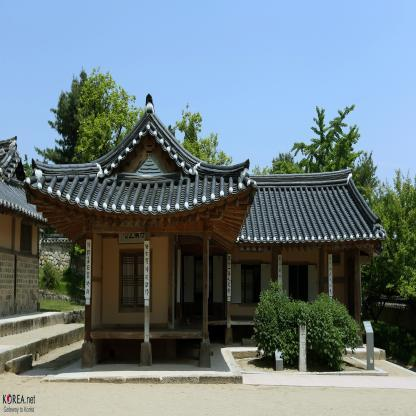Blind: (183, 254, 194, 304), (213, 255, 223, 303), (231, 263, 241, 304), (261, 264, 271, 305), (280, 265, 289, 306), (309, 265, 318, 306)
Building Outline: (23, 93, 386, 369)
Deco: (85, 239, 92, 305), (144, 241, 150, 306), (278, 255, 282, 304), (328, 254, 332, 302), (227, 254, 231, 301)
Dont: (250, 276, 362, 372)
Door: (194, 258, 213, 317)
Floor Slab: (84, 320, 359, 339)
Pillar: (81, 233, 95, 369), (199, 232, 211, 368), (140, 232, 152, 366), (355, 250, 363, 345), (276, 250, 284, 345), (327, 250, 334, 345), (225, 253, 232, 345)
Raised Floor: (84, 221, 359, 332)
Roof: (23, 93, 386, 244)
Window: (123, 254, 149, 307), (288, 264, 309, 304), (240, 263, 261, 303), (330, 255, 339, 263)
Window Outline: (119, 249, 153, 312), (286, 260, 310, 309), (239, 259, 263, 308)
